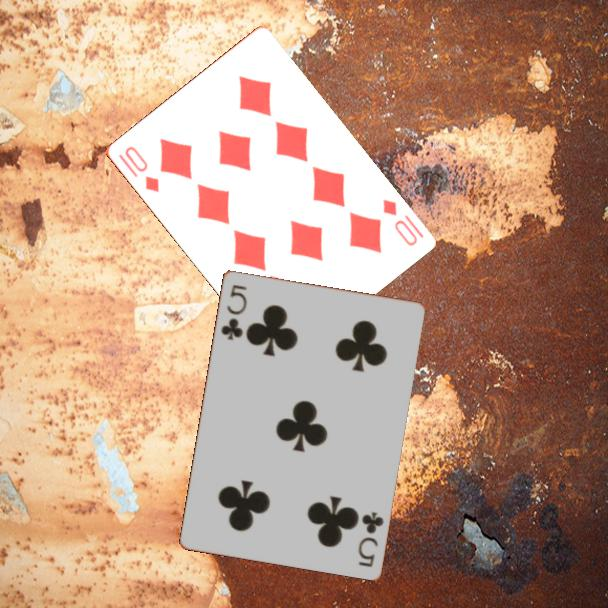c05: (217, 281, 250, 343), (354, 508, 386, 570)
d10: (379, 195, 426, 249), (121, 143, 162, 195)
